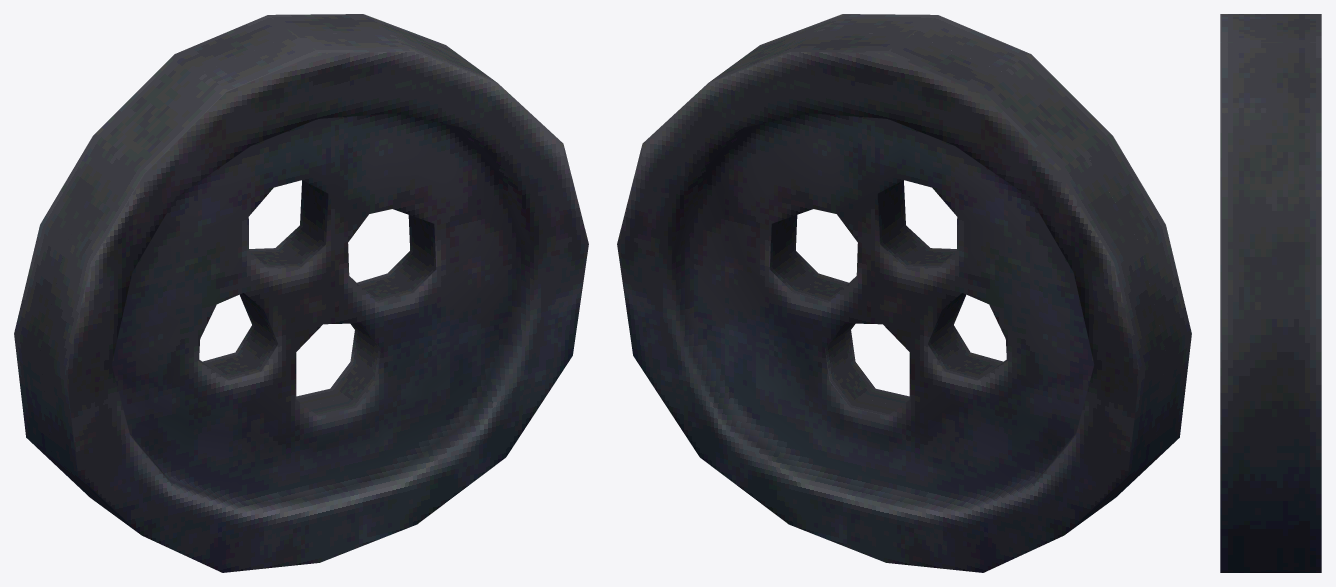
The model's file is ps2_save-icons_coraline.glb.
3 views of the same model, side by side, from view 1: azimuth 30°, elevation 25°; view 2: azimuth 150°, elevation 25°; view 3: azimuth 270°, elevation 25° (orthographic). The views are drawn at different scales.
Parts seen in each view (by area): view 1: list.ico; view 2: list.ico; view 3: list.ico.
Part boxes in pixels (x1=…): list.ico: x1=14, y1=14, x2=588, y2=572; list.ico: x1=617, y1=14, x2=1191, y2=572; list.ico: x1=1220, y1=14, x2=1321, y2=572.
Bounding box in the file's own units: 3.12 × 2.91 × 0.5369.
1 material, 1 textured.
